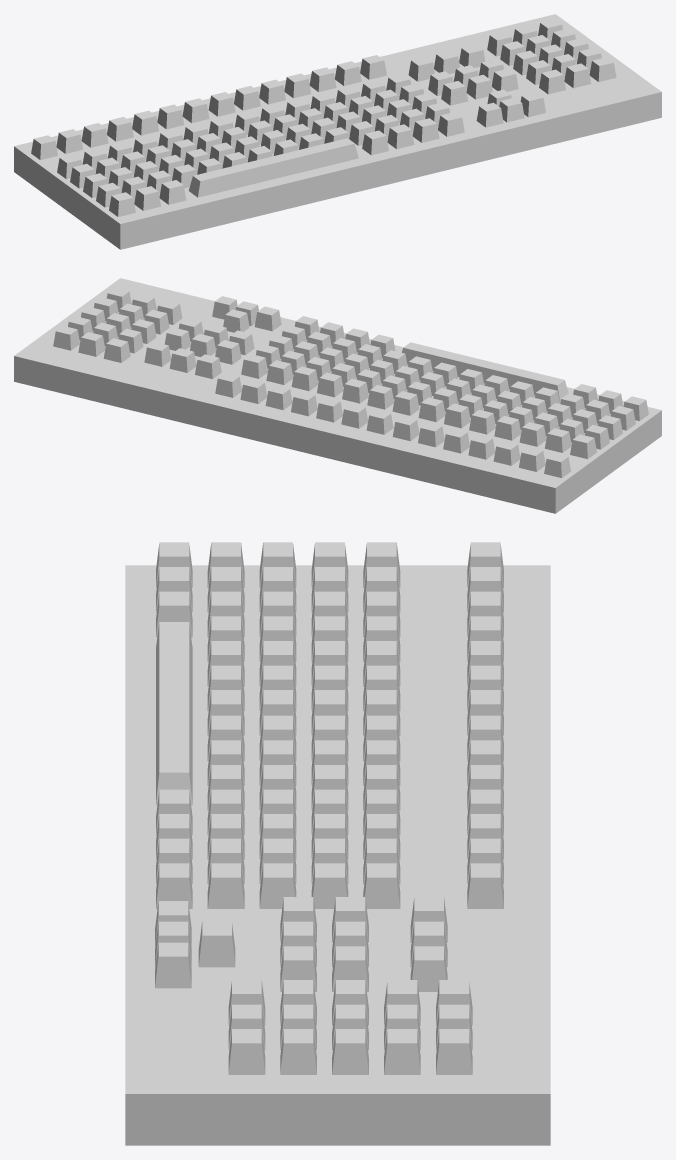
The model's file is keyboard.fbx.
3 renders of one model, top to bottom at view 1: azimuth 30°, elevation 25°; view 2: azimuth 150°, elevation 25°; view 3: azimuth 270°, elevation 25°, orthographic. The views are drawn at different scales.
Parts seen in each view (by area): view 1: Cube.008; view 2: Cube.008; view 3: Cube.008.
Boxes of the visible parts, <box> form: Cube.008: <box>14,14,661,249</box>; Cube.008: <box>14,278,661,513</box>; Cube.008: <box>125,542,550,1145</box>.
Size of the model in its own units: 68.86 by 4.95 by 23.43.
1 material, 1 textured.
